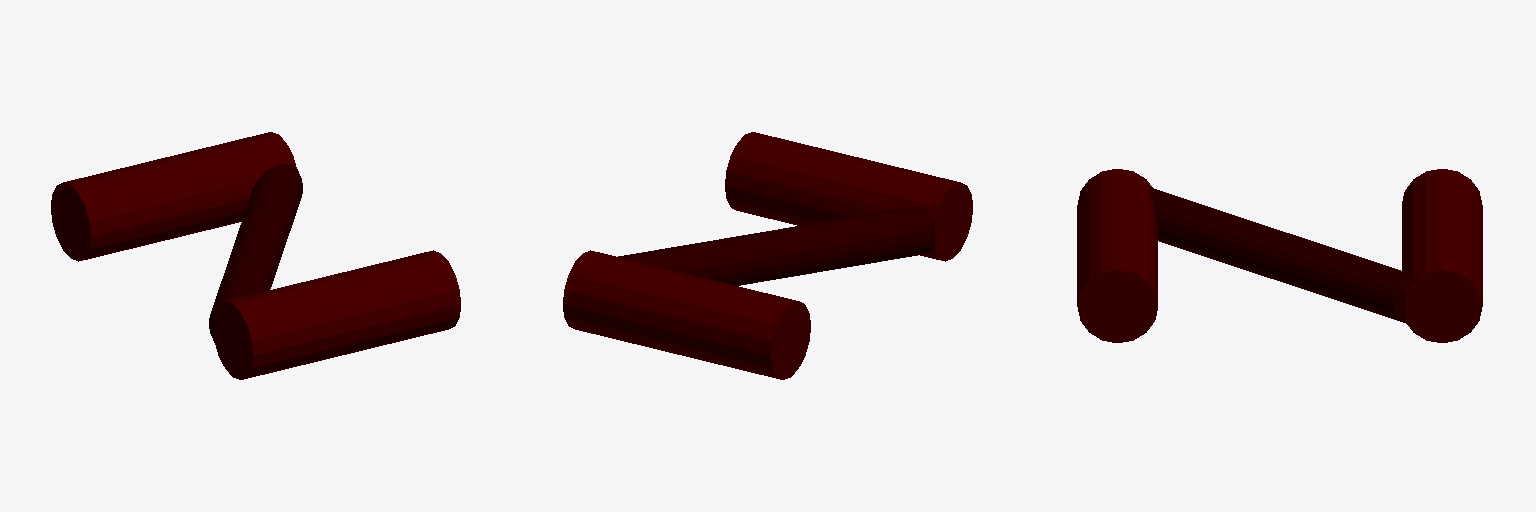
Rendered from track.obj.
The picture shows the model from 3 angles: view 1: azimuth 30°, elevation 25°; view 2: azimuth 150°, elevation 25°; view 3: azimuth 270°, elevation 25°; orthographic projection.
Parts seen in each view (by area): view 1: mini.002; view 2: mini.002; view 3: mini.002.
Part boxes in pixels (x1,y1,x2,y2): mini.002: (51,132,460,379); mini.002: (563,132,972,379); mini.002: (1077,169,1482,342).
Bounding box in the file's own units: 0.6848 × 0.231 × 1.16.